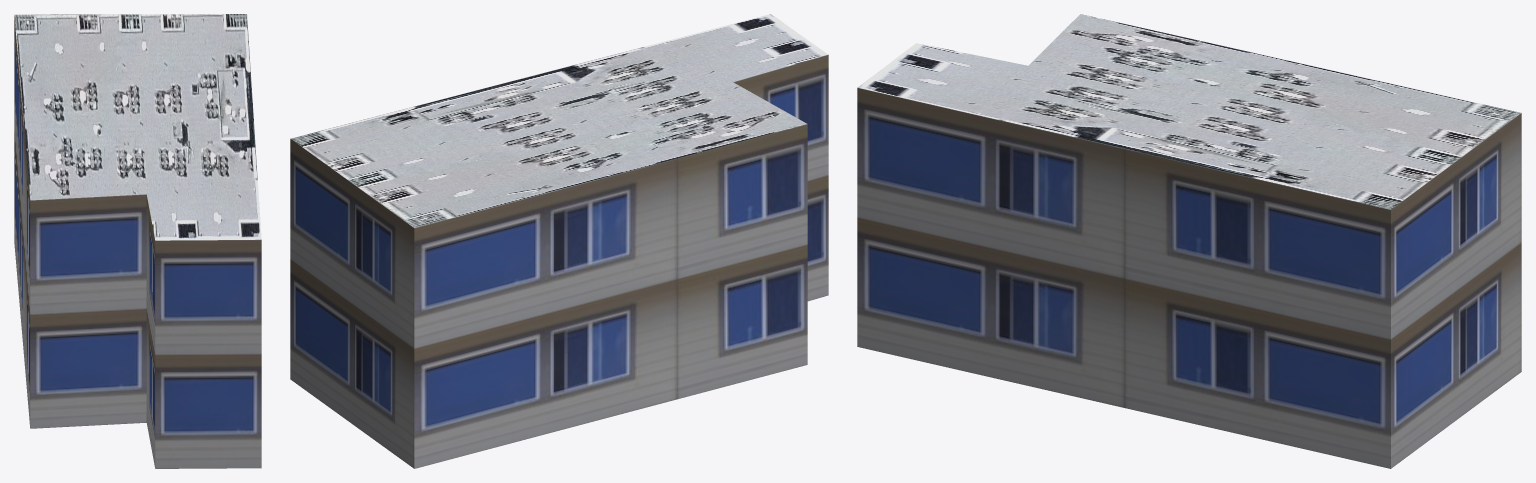
The model's file is ResTex__1001.fbx.
3 renders of one model, left to right at view 1: azimuth 30°, elevation 25°; view 2: azimuth 150°, elevation 25°; view 3: azimuth 270°, elevation 25°, orthographic. The views are drawn at different scales.
Parts seen in each view (by area): view 1: CityEngineMaterial_23_m, CityEngineMaterial_m; view 2: CityEngineMaterial_23_m, CityEngineMaterial_m; view 3: CityEngineMaterial_23_m, CityEngineMaterial_m.
Boxes of the visible parts, left/top/right/bottom form: CityEngineMaterial_23_m: left=14, top=16, right=261, bottom=468; CityEngineMaterial_m: left=14, top=14, right=261, bottom=240; CityEngineMaterial_23_m: left=290, top=54, right=828, bottom=468; CityEngineMaterial_m: left=291, top=14, right=827, bottom=227; CityEngineMaterial_23_m: left=857, top=87, right=1521, bottom=468; CityEngineMaterial_m: left=858, top=14, right=1520, bottom=209.
Size of the model in its own units: 9.72 by 6 by 13.93.
2 materials, 2 textured.
